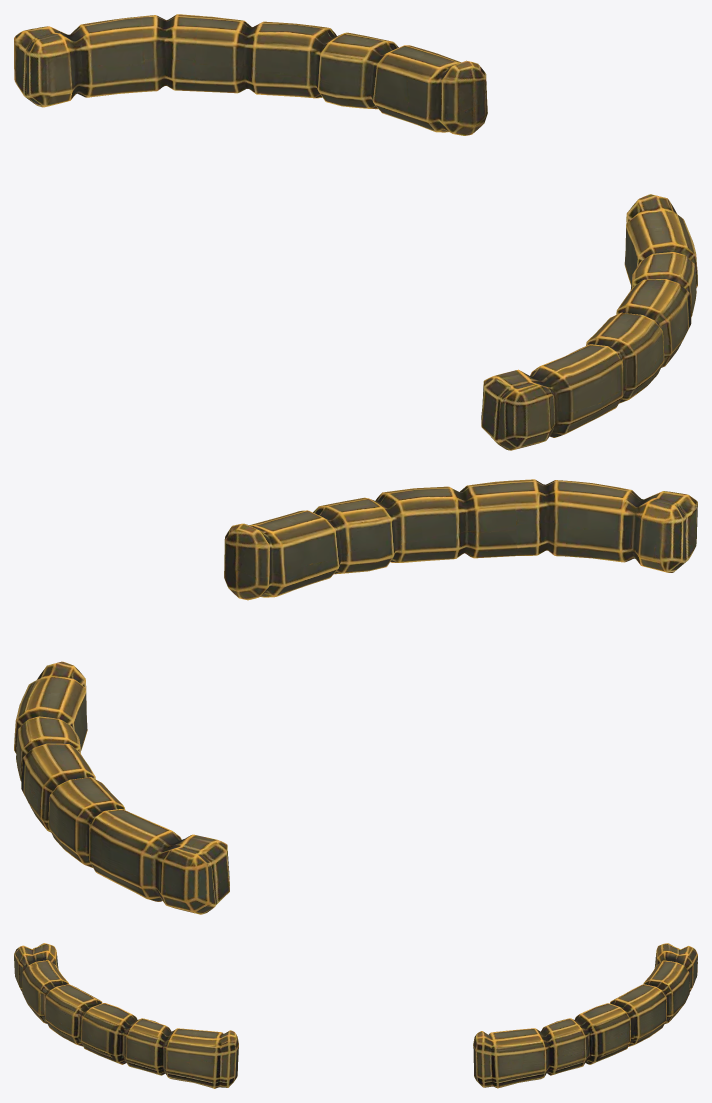
Rendered from rank-1-rich-512.glb.
3 renders of one model, top to bottom at view 1: azimuth 30°, elevation 25°; view 2: azimuth 150°, elevation 25°; view 3: azimuth 270°, elevation 25°, orthographic. The views are drawn at different scales.
Visible parts, largest first — view 1: chassis; view 2: chassis; view 3: chassis.
Boxes of the visible parts, box(x1,y1,x2,y2) form: chassis: box(14, 14, 697, 450); chassis: box(14, 479, 697, 914); chassis: box(14, 943, 697, 1088).
Size of the model in its own units: 0.2947 by 0.0684 by 0.78.
1 material, 1 textured.
